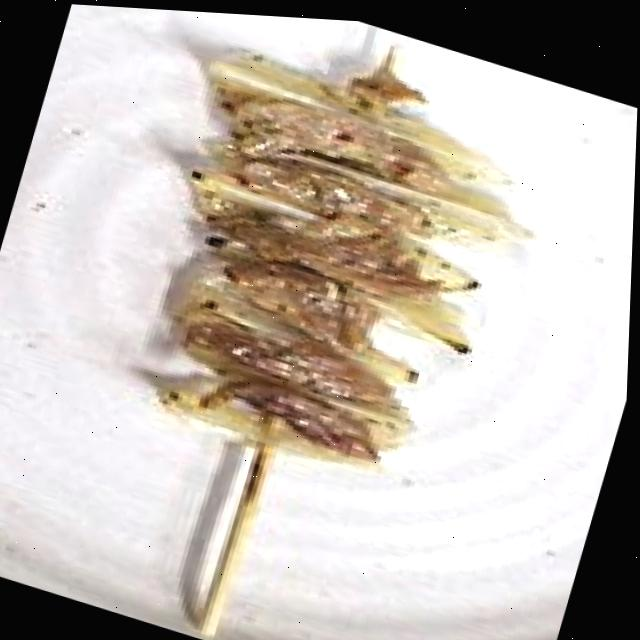烧串烤肉: (33, 2, 583, 640)
